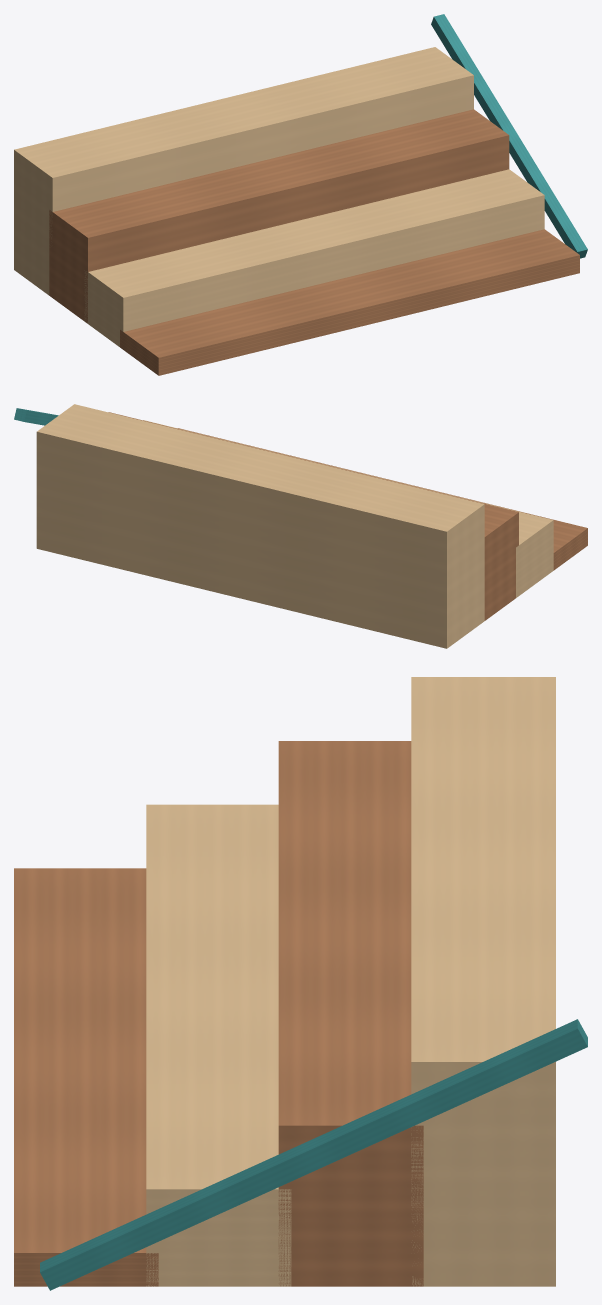
Rendered from atlas100-s091-a10.lod1.glb.
The picture shows the model from 3 angles, top to bottom: view 1: azimuth 30°, elevation 25°; view 2: azimuth 150°, elevation 25°; view 3: azimuth 270°, elevation 25°; orthographic projection. The views are drawn at different scales.
Visible parts, largest first — view 1: atlas100-s091-a10:part-003, atlas100-s091-a10:part-002, atlas100-s091-a10:part-001, atlas100-s091-a10:part-000, atlas100-s091-a10:part-005; view 2: atlas100-s091-a10:part-003, atlas100-s091-a10:part-002, atlas100-s091-a10:part-001, atlas100-s091-a10:part-000, atlas100-s091-a10:part-005; view 3: atlas100-s091-a10:part-003, atlas100-s091-a10:part-002, atlas100-s091-a10:part-001, atlas100-s091-a10:part-000, atlas100-s091-a10:part-005.
Part boxes in pixels (left/top/right/bottom): atlas100-s091-a10:part-003: left=14, top=47, right=473, bottom=295; atlas100-s091-a10:part-002: left=49, top=109, right=509, bottom=323; atlas100-s091-a10:part-001: left=84, top=169, right=544, bottom=346; atlas100-s091-a10:part-000: left=120, top=229, right=579, bottom=375; atlas100-s091-a10:part-005: left=431, top=14, right=587, bottom=258; atlas100-s091-a10:part-003: left=36, top=404, right=484, bottom=648; atlas100-s091-a10:part-002: left=108, top=412, right=518, bottom=620; atlas100-s091-a10:part-001: left=143, top=420, right=553, bottom=597; atlas100-s091-a10:part-000: left=178, top=428, right=587, bottom=570; atlas100-s091-a10:part-005: left=14, top=408, right=58, bottom=425; atlas100-s091-a10:part-003: left=411, top=677, right=555, bottom=1286; atlas100-s091-a10:part-002: left=278, top=741, right=423, bottom=1286; atlas100-s091-a10:part-001: left=146, top=804, right=291, bottom=1286; atlas100-s091-a10:part-000: left=14, top=868, right=158, bottom=1286; atlas100-s091-a10:part-005: left=40, top=1019, right=587, bottom=1290.
Bounding box in the file's own units: 2.28 × 0.7246 × 1.39.
Materials: 3 (3 with a texture image).
